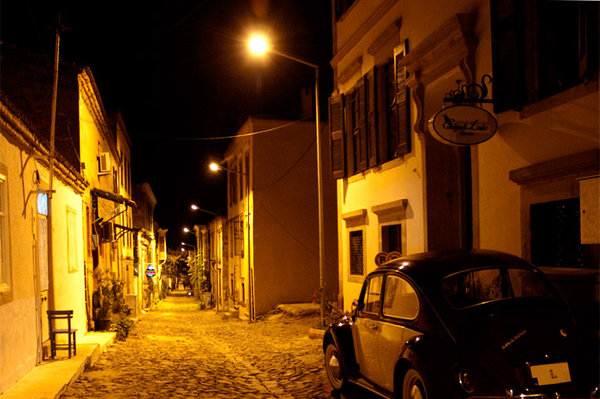car: (313, 246, 600, 398)
